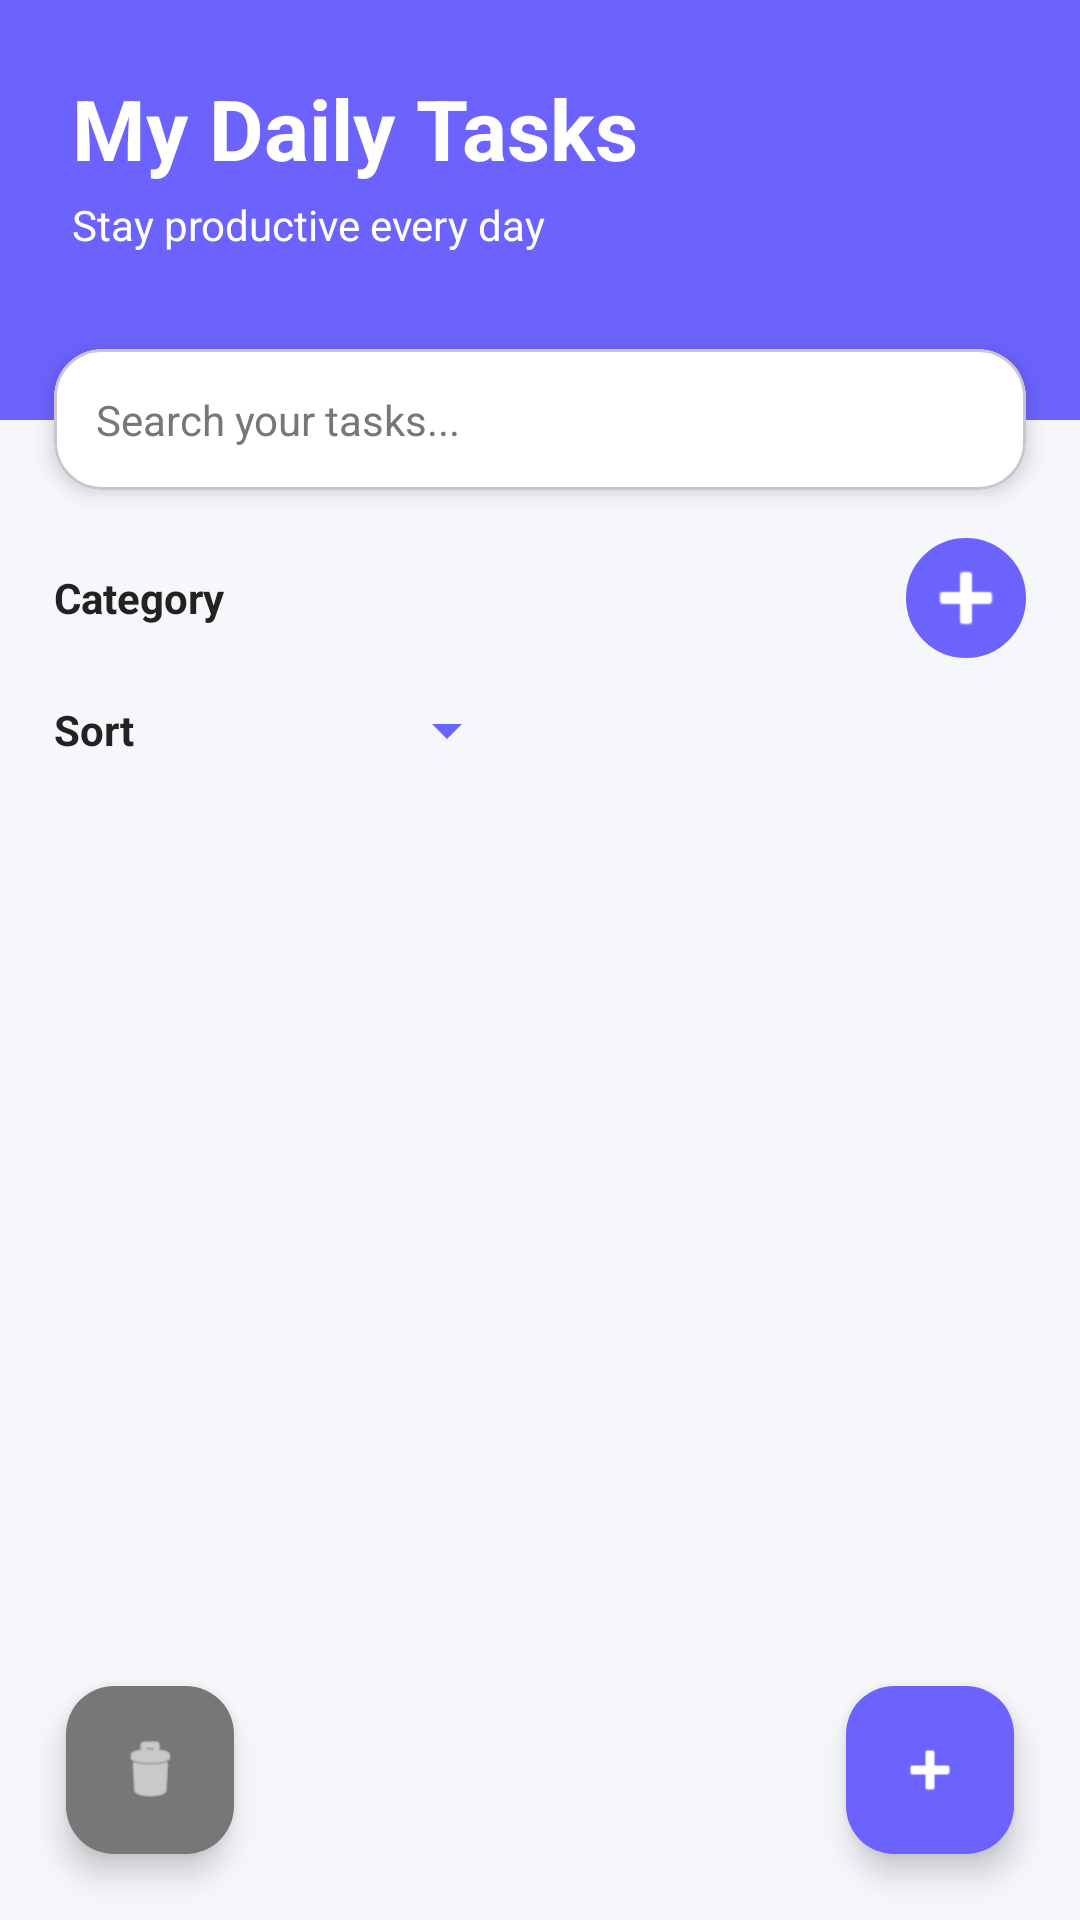

Icon click points for this 1080x1920 phone screenshot, format (x=x, y=y):
add: (x=966, y=598), (x=930, y=1770)
delete: (x=150, y=1770)
